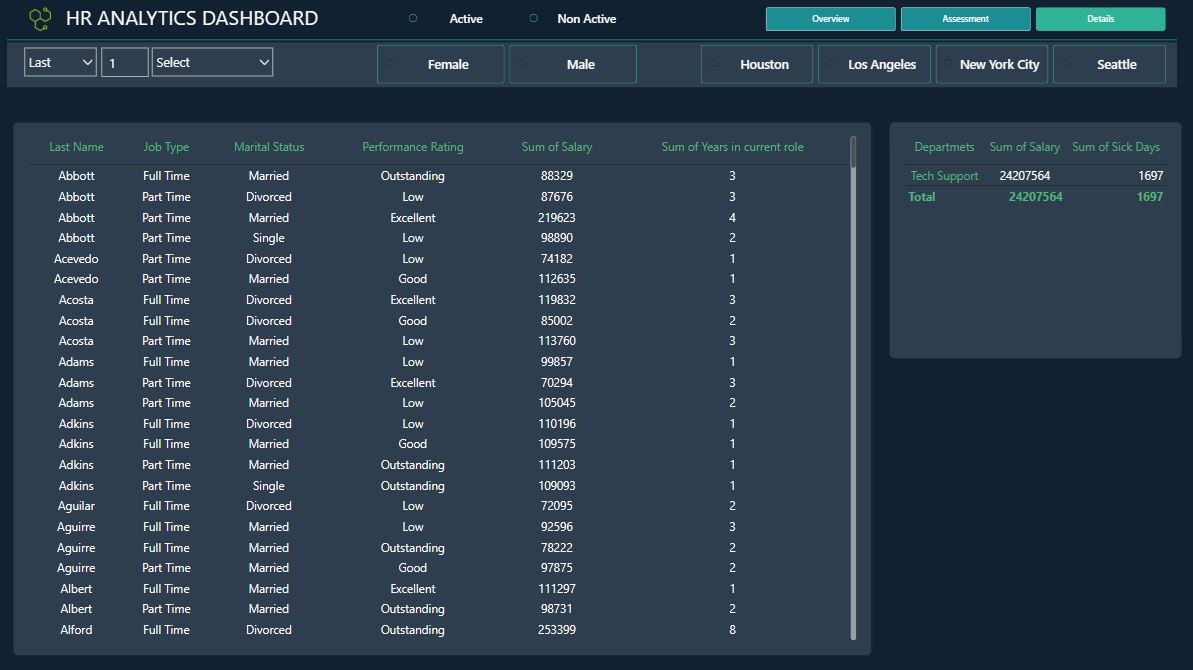

This screenshot's page, from the dashboard's own definition file:
{"tool":"powerbi","page":{"name":"Details","canvas":[1920,1080],"ordinal":2},"visuals":[{"type":"tableEx","fields":{"Values":["Human Resources.Last Name","Human Resources.Job Type","Human Resources.Marital Status","Human Resources.Performance Rating","Sum(Human Resources.Salary)","Sum(Human Resources.Years in current role)"]},"box":[25.9,202.6,1373.1,852.6],"z":0},{"type":"tableEx","fields":{"Values":["Human Resources.Departmets","Sum(Human Resources.Salary)","Sum(Human Resources.Sick Days)"]},"box":[1427.4,202.2,467.6,377.9],"z":1000},{"type":"textbox","box":[94,12,436,52],"z":2000},{"type":"shape","box":[16,56,1872,28],"z":3000},{"type":"shape","box":[16,74,1872,72],"z":4000},{"type":"image","box":[44,18,50.5,38.1],"z":5000},{"type":"advancedSlicerVisual","fields":{"Values":["Human Resources.Business Unit"]},"box":[1126,78,746,62],"z":6000},{"type":"advancedSlicerVisual","fields":{"Values":["Human Resources.Gender"]},"box":[608,78,416,62],"z":7000},{"type":"slicer","fields":{"Values":["Human Resources.Hire Date"]},"box":[36,78,416,56],"z":8000},{"type":"pageNavigator","box":[1230.5,17.6,641.6,38.7],"z":8001},{"type":"advancedSlicerVisual","fields":{"Values":["Human Resources.Emp.Type"]},"box":[646.6,3.6,378.2,64.8],"z":8002}]}

Visuals, with their boxes in screenshot pixels (x1, y1, x2, y2), scaled from the page's 1920x1080 canvas onto the 1193x670 screenshot:
tableEx - Human Resources.Last Name x Human Resources.Job Type: crop(16, 126, 869, 655)
tableEx - Human Resources.Departmets x Sum(Human Resources.Salary): crop(887, 125, 1177, 360)
textbox: crop(58, 7, 329, 40)
shape: crop(10, 35, 1173, 52)
shape: crop(10, 46, 1173, 91)
image: crop(27, 11, 59, 35)
advancedSlicerVisual - Human Resources.Business Unit: crop(700, 48, 1163, 87)
advancedSlicerVisual - Human Resources.Gender: crop(378, 48, 636, 87)
slicer - Human Resources.Hire Date: crop(22, 48, 281, 83)
pageNavigator: crop(765, 11, 1163, 35)
advancedSlicerVisual - Human Resources.Emp.Type: crop(402, 2, 637, 42)
